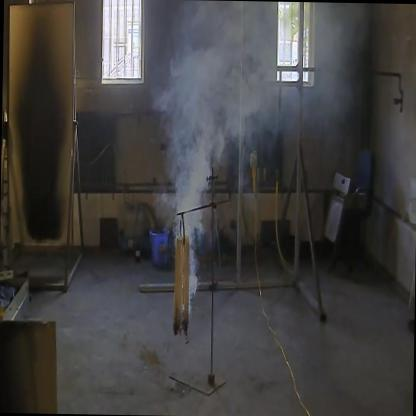smoke: (152, 0, 259, 214)
